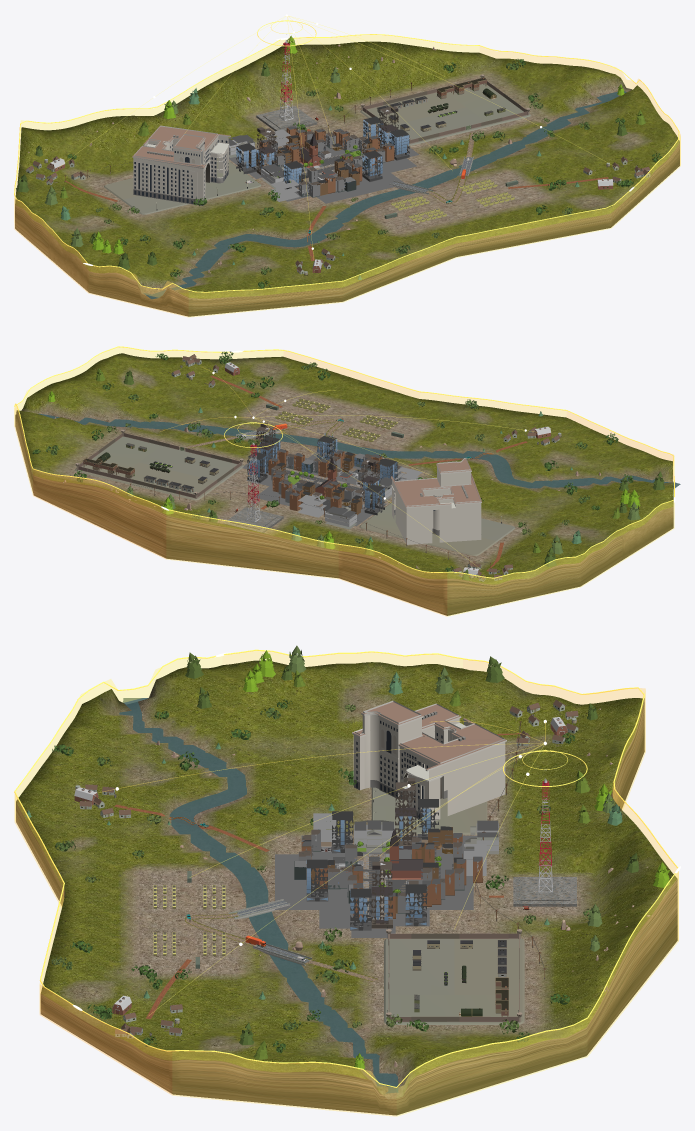
The model's file is kalinda.glb.
3 renders of one model, top to bottom at view 1: azimuth 30°, elevation 25°; view 2: azimuth 150°, elevation 25°; view 3: azimuth 270°, elevation 25°, orthographic. The views are drawn at different scales.
Parts seen in each view (by area): view 1: KAL_Base, KAL_EdgeWall, KAL_City_Buildings, KAL_GovernmentBuilding, KAL_River, KAL_BarracksGround, KAL_City_Ground, KAL_GovForecourt, KAL_EdgeLine, KAL_Mast, KAL_Roads; view 2: KAL_Base, KAL_EdgeWall, KAL_City_Buildings, KAL_GovernmentBuilding, KAL_BarracksGround, KAL_River, KAL_EdgeLine, KAL_GovForecourt, KAL_City_Ground, KAL_Mast, KAL_Roads, KAL_BarracksWall_N; view 3: KAL_Base, KAL_EdgeWall, KAL_City_Buildings, KAL_GovernmentBuilding, KAL_BarracksGround, KAL_River, KAL_City_Ground, KAL_EdgeLine, KAL_Mast, KAL_GovForecourt, KAL_Roads, KAL_BarracksWall_W.
Part boxes in pixels (bbox=[...]): KAL_Base: bbox=[15, 41, 679, 316]; KAL_EdgeWall: bbox=[14, 35, 680, 317]; KAL_City_Buildings: bbox=[228, 106, 409, 201]; KAL_GovernmentBuilding: bbox=[132, 125, 230, 205]; KAL_River: bbox=[143, 91, 626, 299]; KAL_BarracksGround: bbox=[360, 83, 530, 145]; KAL_City_Ground: bbox=[229, 134, 419, 203]; KAL_GovForecourt: bbox=[104, 157, 261, 214]; KAL_EdgeLine: bbox=[14, 34, 679, 292]; KAL_Mast: bbox=[256, 34, 317, 131]; KAL_Roads: bbox=[64, 129, 608, 260]; KAL_Base: bbox=[15, 353, 673, 615]; KAL_EdgeWall: bbox=[14, 346, 674, 616]; KAL_City_Buildings: bbox=[247, 422, 422, 529]; KAL_GovernmentBuilding: bbox=[391, 458, 481, 544]; KAL_BarracksGround: bbox=[75, 436, 243, 500]; KAL_River: bbox=[38, 413, 680, 488]; KAL_EdgeLine: bbox=[14, 346, 674, 578]; KAL_GovForecourt: bbox=[359, 503, 515, 555]; KAL_City_Ground: bbox=[242, 447, 406, 526]; KAL_Mast: bbox=[223, 436, 283, 532]; KAL_Roads: bbox=[186, 375, 527, 571]; KAL_BarracksWall_N: bbox=[78, 466, 195, 498]; KAL_Base: bbox=[16, 660, 677, 1115]; KAL_EdgeWall: bbox=[14, 651, 678, 1116]; KAL_City_Buildings: bbox=[294, 778, 499, 930]; KAL_GovernmentBuilding: bbox=[352, 700, 506, 821]; KAL_BarracksGround: bbox=[384, 938, 524, 1024]; KAL_River: bbox=[119, 698, 398, 1093]; KAL_City_Ground: bbox=[275, 835, 477, 937]; KAL_EdgeLine: bbox=[14, 649, 678, 1087]; KAL_Mast: bbox=[513, 769, 576, 906]; KAL_GovForecourt: bbox=[371, 773, 487, 834]; KAL_Roads: bbox=[114, 733, 520, 1018]; KAL_BarracksWall_W: bbox=[390, 933, 518, 938].
Size of what is drawn, in the model's own units: 1.21 by 0.2306 by 0.8064.
35 materials, 8 textured.
